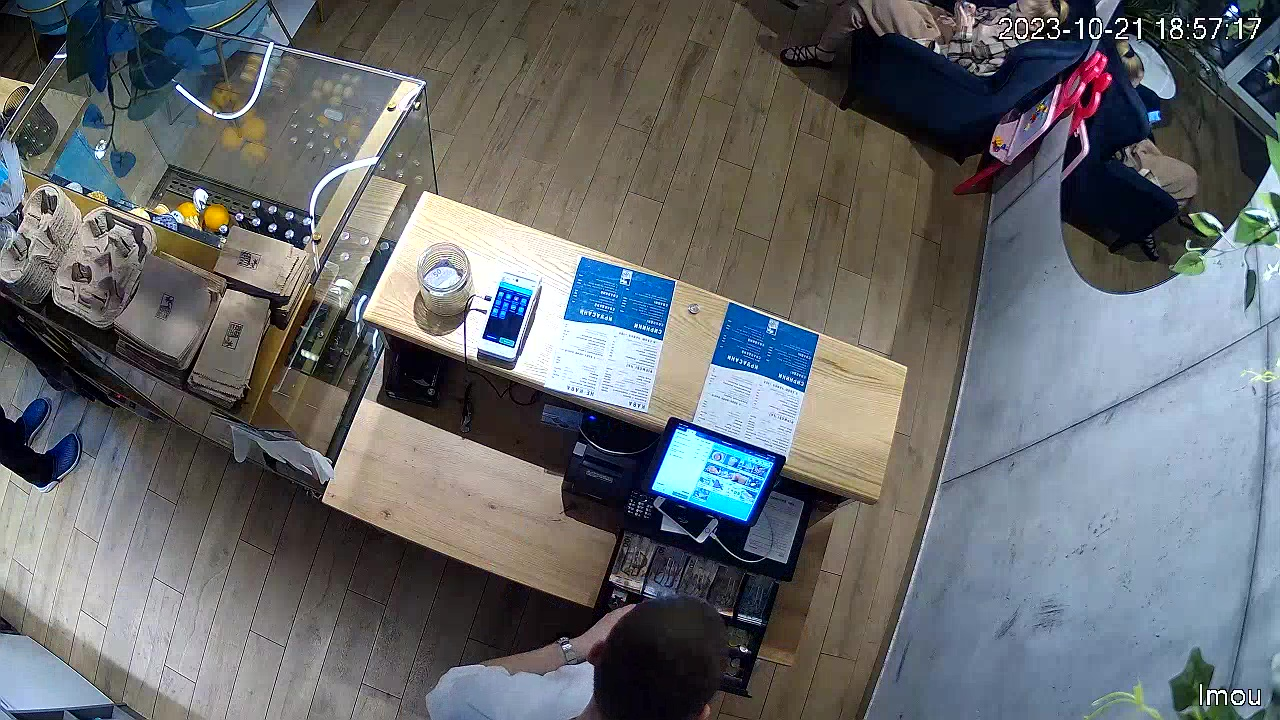openedcash: (604, 521, 729, 631)
